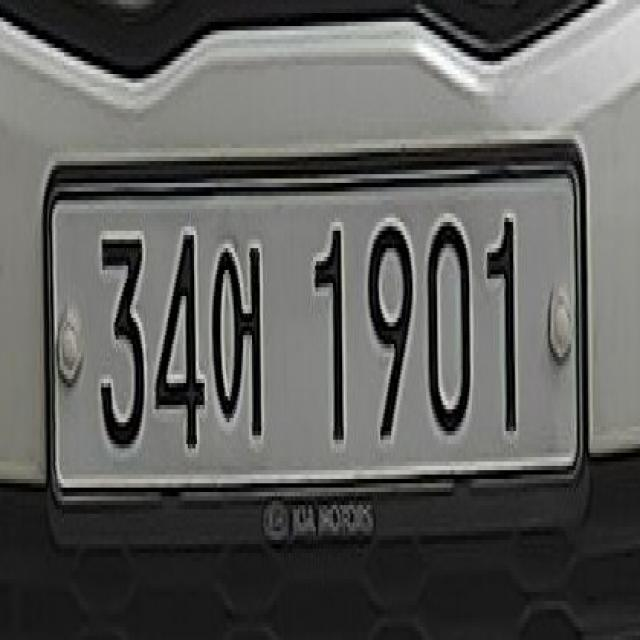0: (424, 209, 474, 440)
1: (483, 196, 519, 444), (313, 213, 350, 453)
3: (98, 227, 148, 457)
4: (153, 226, 205, 448)
9: (365, 209, 412, 453)
eo: (208, 235, 267, 440)
license_plate: (40, 161, 585, 505)
